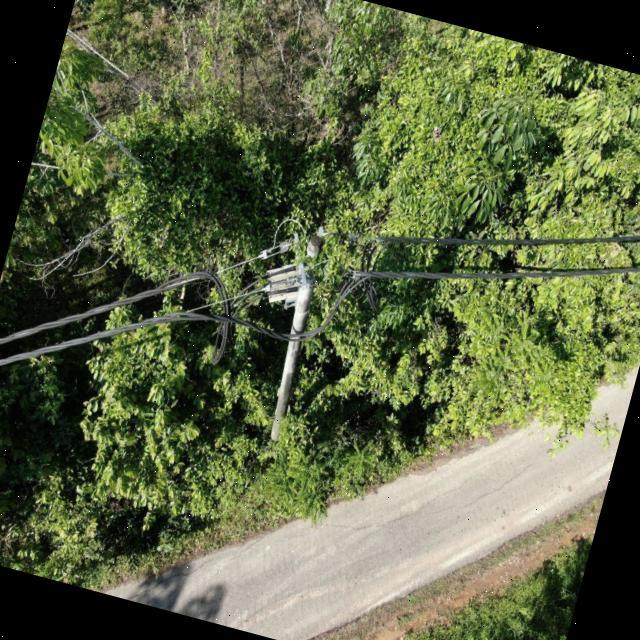critical vegetation: (254, 218, 446, 412)
